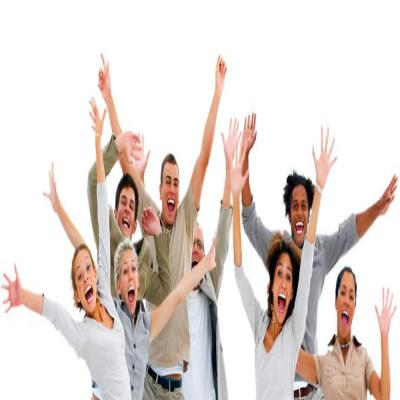happy: (270, 245, 292, 323), (72, 252, 100, 313), (334, 272, 358, 342), (159, 159, 182, 228), (115, 176, 138, 243), (118, 249, 140, 316), (289, 183, 309, 243)
